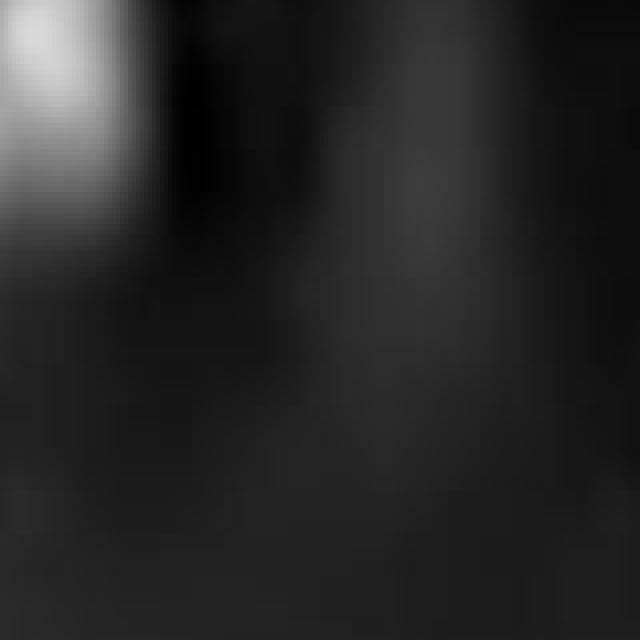person: (1, 1, 173, 289)
